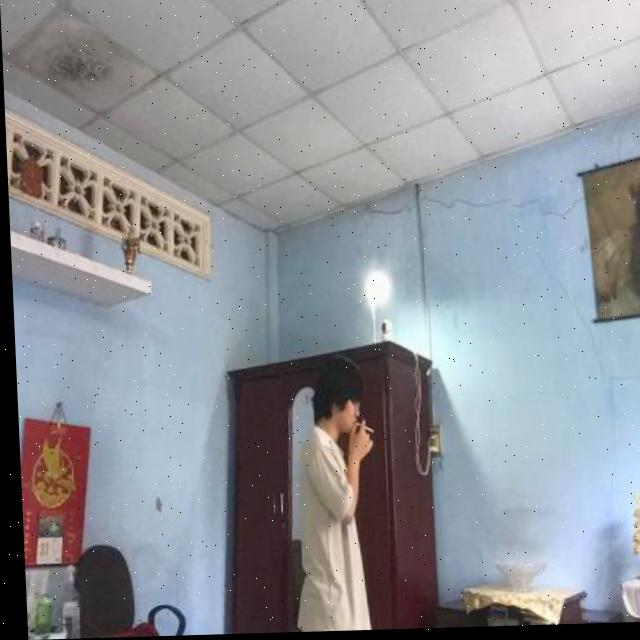cigarette: (351, 424, 372, 436)
